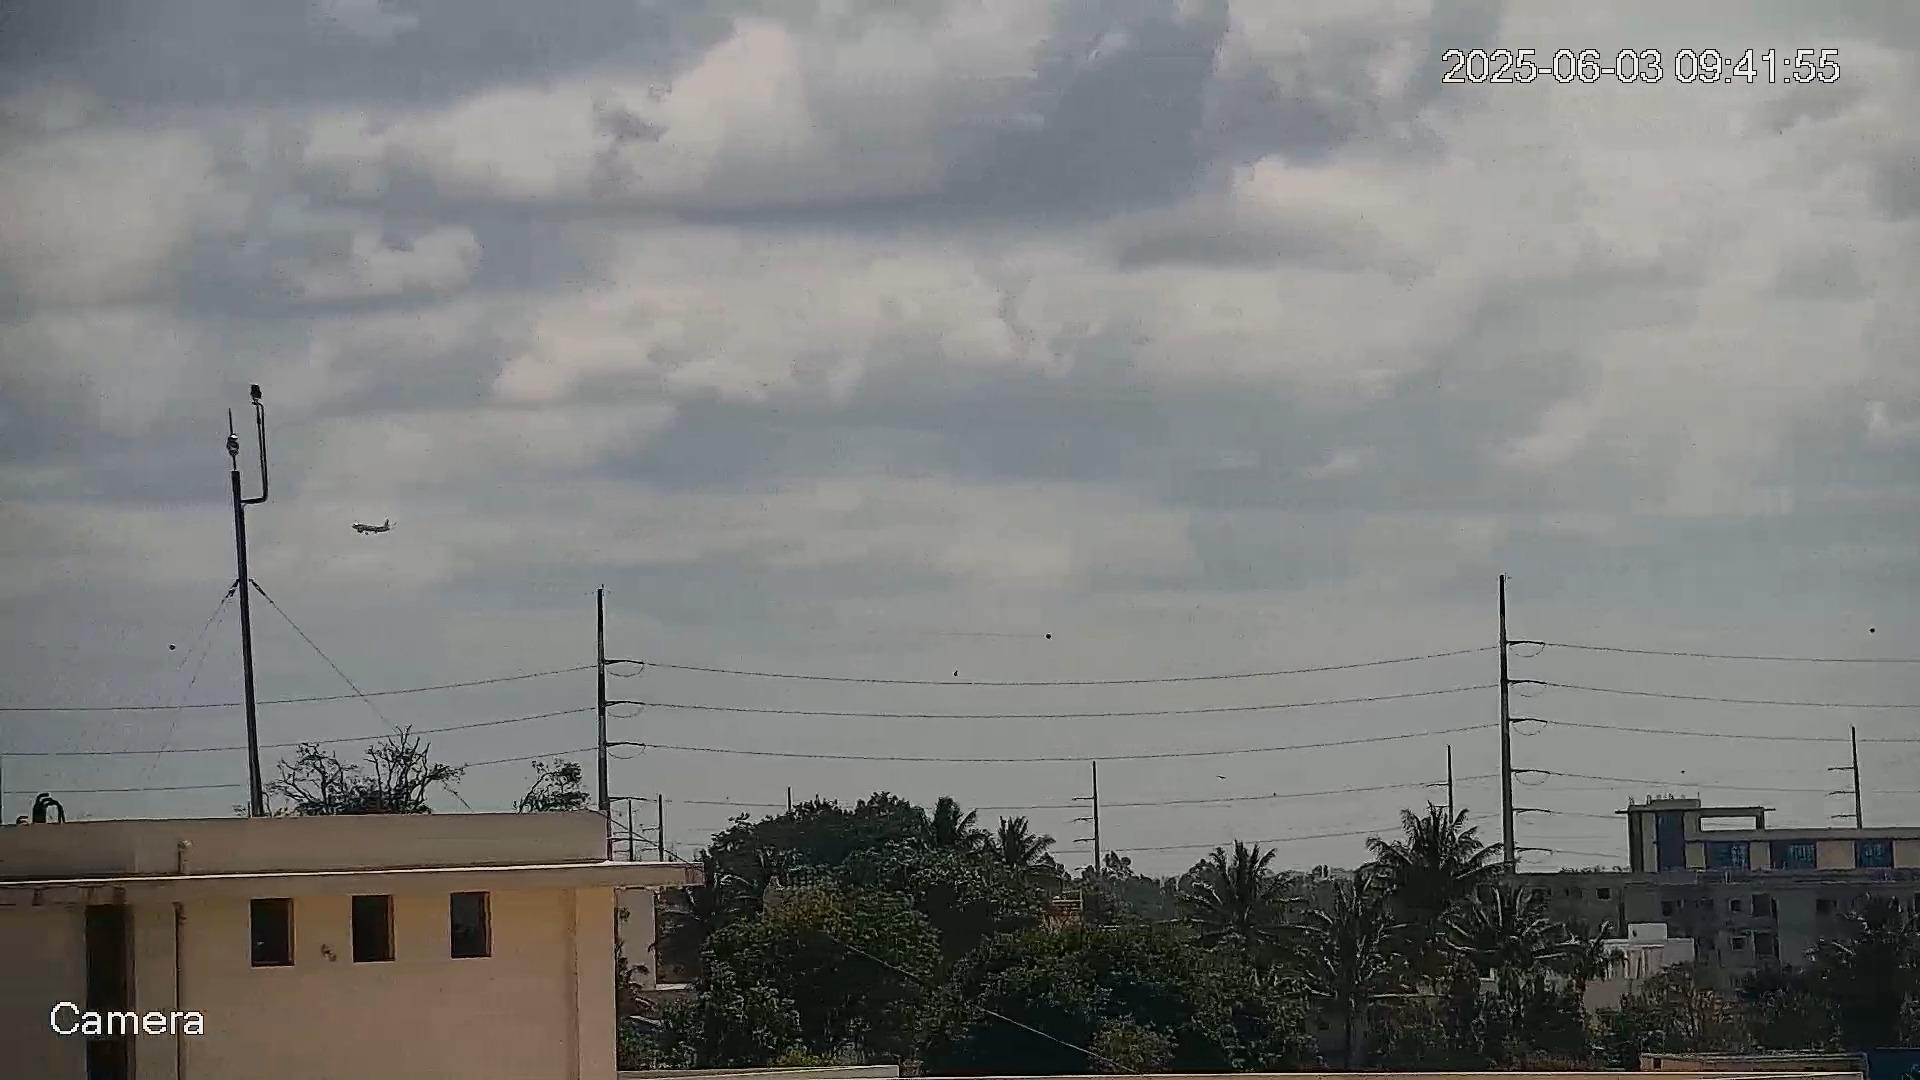Aircraft: (351, 518, 394, 535)
